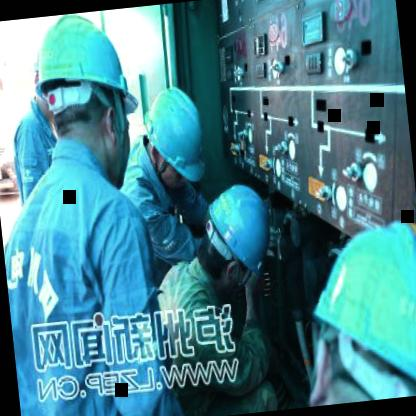helmet: (291, 207, 416, 406), (18, 8, 144, 184), (200, 174, 285, 295), (132, 78, 210, 204)
